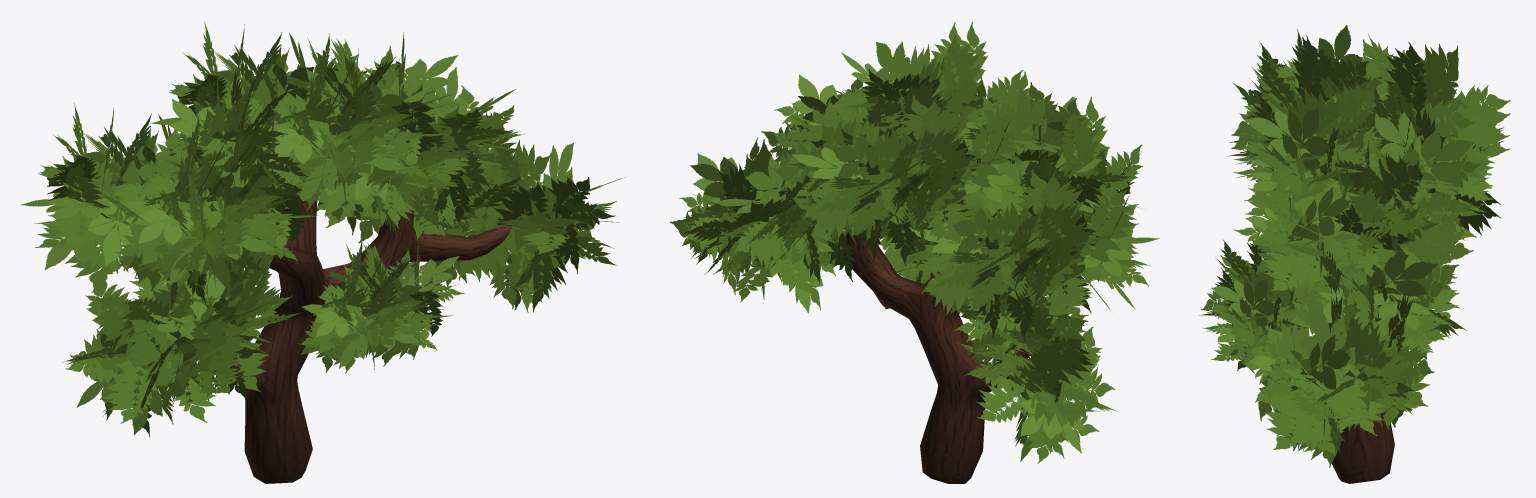
Rendered from SM_Common_Tree_01.glb.
3 views of the same model, side by side, from view 1: azimuth 30°, elevation 25°; view 2: azimuth 150°, elevation 25°; view 3: azimuth 270°, elevation 25° (orthographic). The views are drawn at different scales.
Visible parts, largest first — view 1: SM_Common_Tree_01; view 2: SM_Common_Tree_01; view 3: SM_Common_Tree_01.
Boxes of the visible parts, <box> form: SM_Common_Tree_01: <box>20,21,625,483</box>; SM_Common_Tree_01: <box>670,22,1159,483</box>; SM_Common_Tree_01: <box>1199,25,1510,483</box>.
Bounding box in the file's own units: 9.61 × 7.56 × 5.1.
2 materials, 2 textured.
